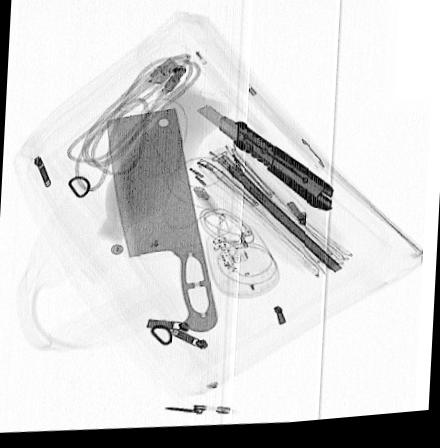Knife: (106, 110, 219, 336), (195, 108, 336, 218)
